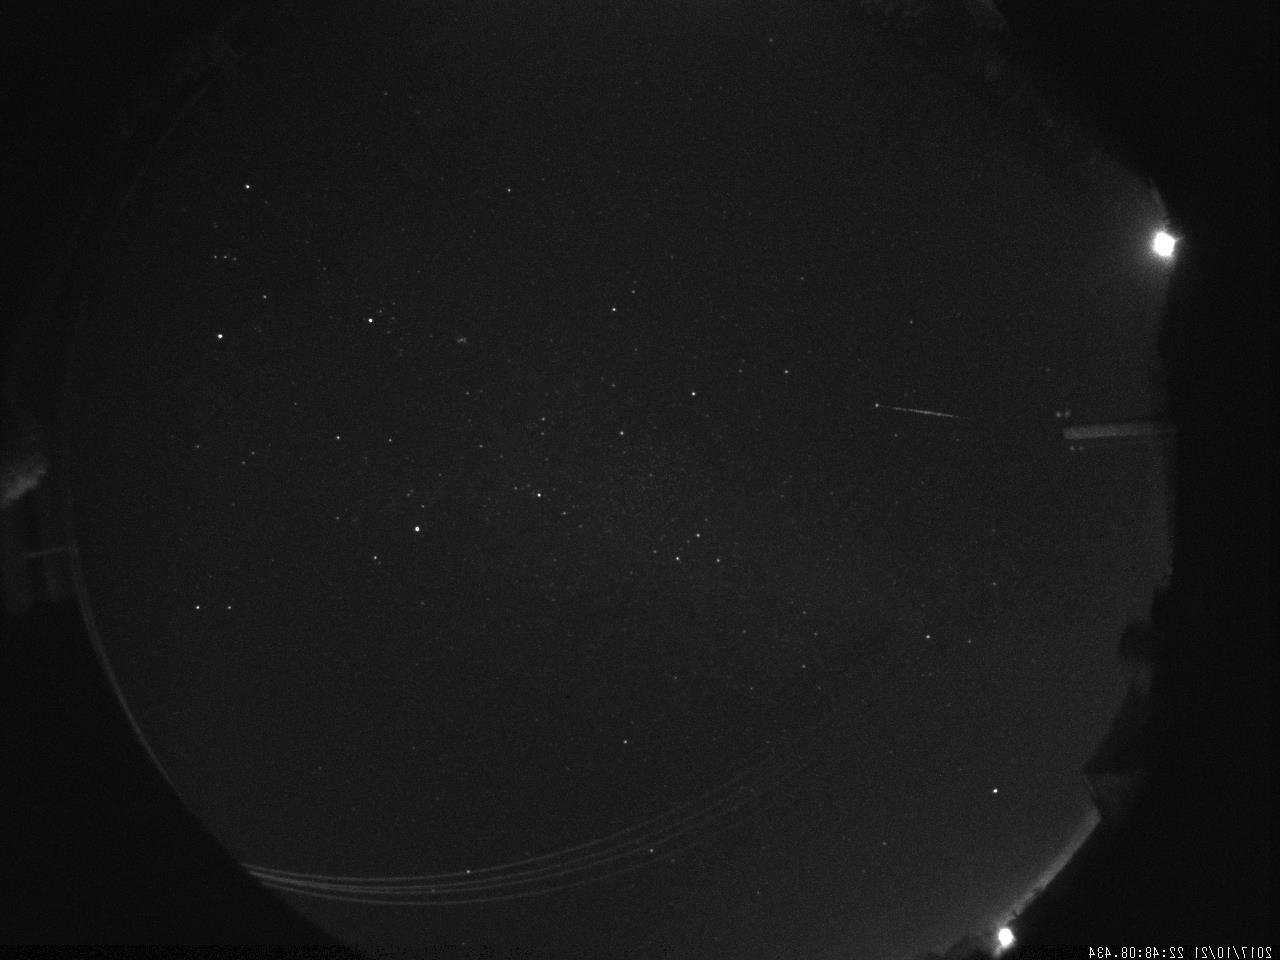meteor: (863, 398, 985, 432)
